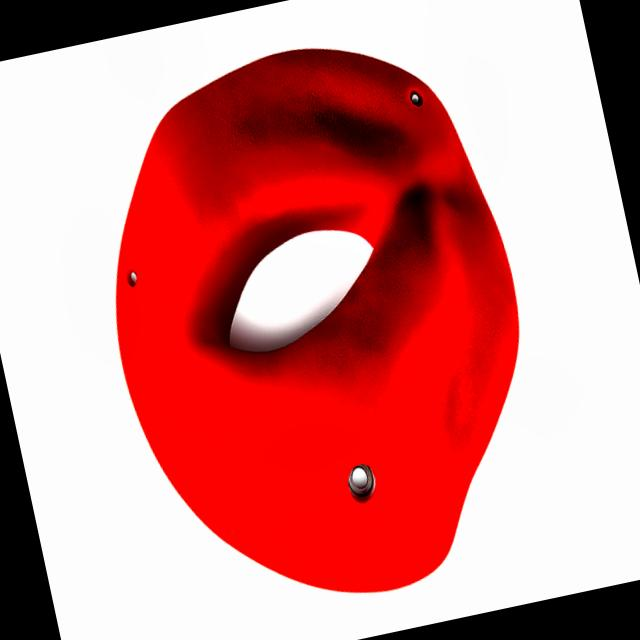Hold: (64, 12, 572, 636)
